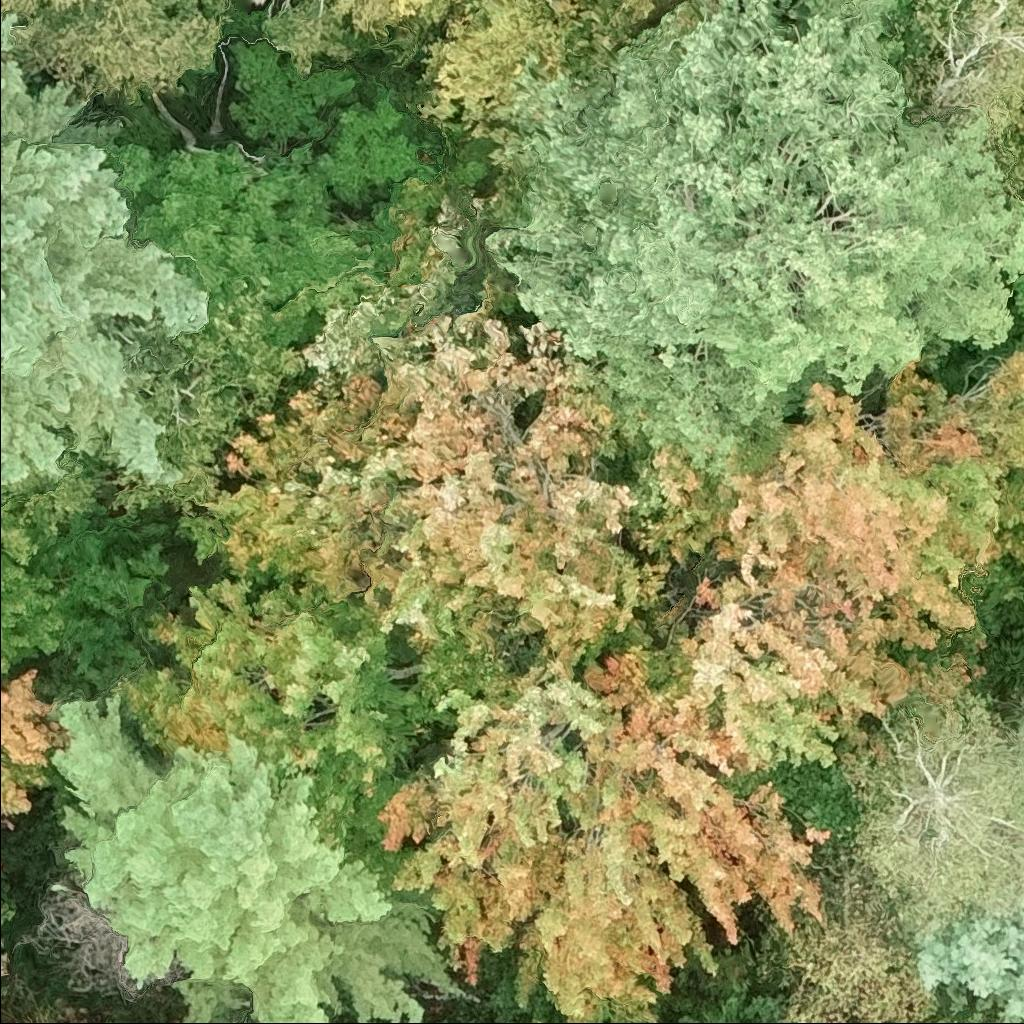crown: (490, 0, 1023, 476), (342, 592, 834, 1023), (180, 296, 677, 702), (629, 388, 990, 773), (48, 688, 462, 1023), (0, 10, 215, 491), (118, 571, 428, 848), (108, 275, 304, 522), (835, 684, 1023, 929), (328, 0, 635, 138), (107, 140, 353, 303), (879, 347, 1023, 591), (777, 847, 930, 1023), (0, 0, 231, 105), (896, 0, 1023, 145), (0, 489, 92, 675), (13, 871, 142, 1001), (320, 71, 439, 210), (898, 902, 1023, 1023), (227, 40, 360, 153), (0, 668, 65, 826), (918, 990, 998, 1023), (0, 901, 18, 1003), (10, 1004, 92, 1023), (605, 0, 660, 24), (326, 996, 352, 1023), (1008, 696, 1023, 733), (598, 1013, 642, 1023), (997, 1012, 1022, 1023), (527, 1019, 559, 1023), (424, 1013, 431, 1023), (1020, 275, 1023, 282), (403, 1023, 403, 1023)
